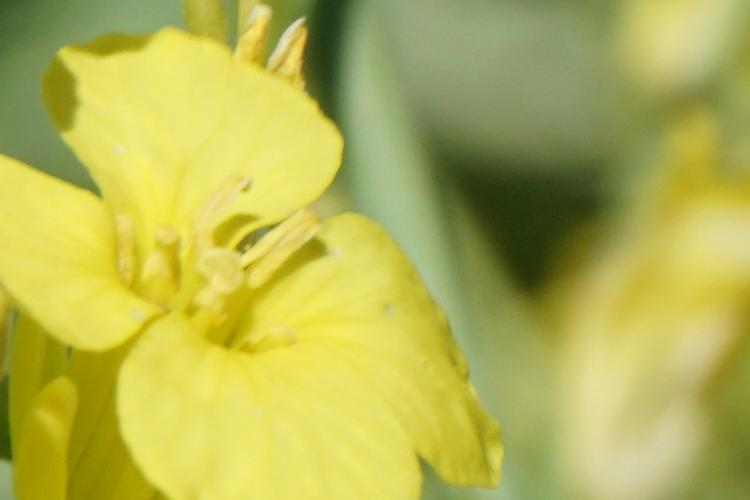yellow: (10, 27, 509, 497)
